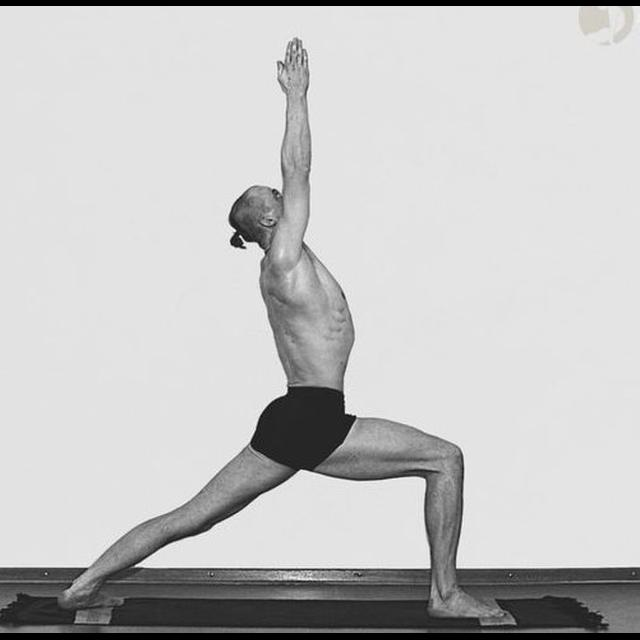Warrior_I: (53, 37, 508, 621)
